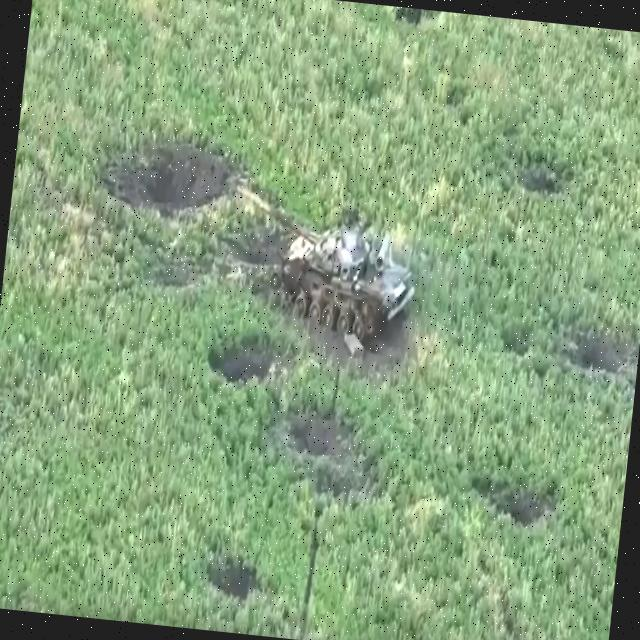Destroyed: (220, 180, 427, 351)
